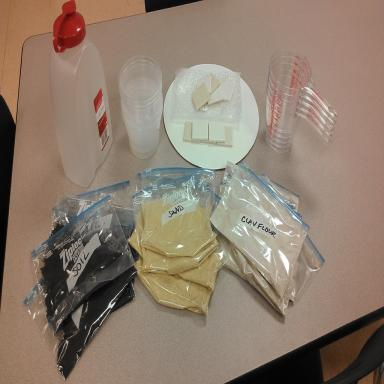plasticbag: (130, 160, 322, 322)
